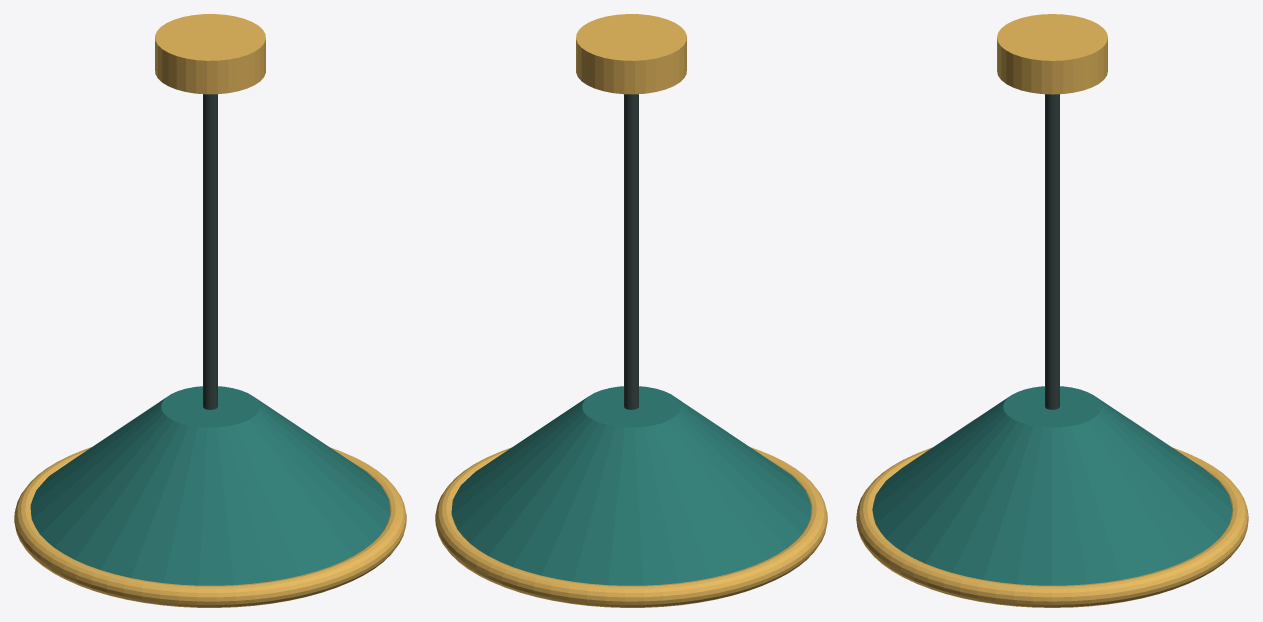
File: pendant-light.glb
The picture shows the model from 3 angles, left to right: view 1: azimuth 30°, elevation 25°; view 2: azimuth 150°, elevation 25°; view 3: azimuth 270°, elevation 25°; orthographic projection.
Parts seen in each view (by area): view 1: pendant_light_batched; view 2: pendant_light_batched; view 3: pendant_light_batched.
Boxes of the visible parts, left/top/right/bottom form: pendant_light_batched: left=14, top=14, right=406, bottom=607; pendant_light_batched: left=435, top=14, right=827, bottom=607; pendant_light_batched: left=856, top=14, right=1248, bottom=607.
Bounding box in the file's own units: 0.636 × 0.878 × 0.636.
